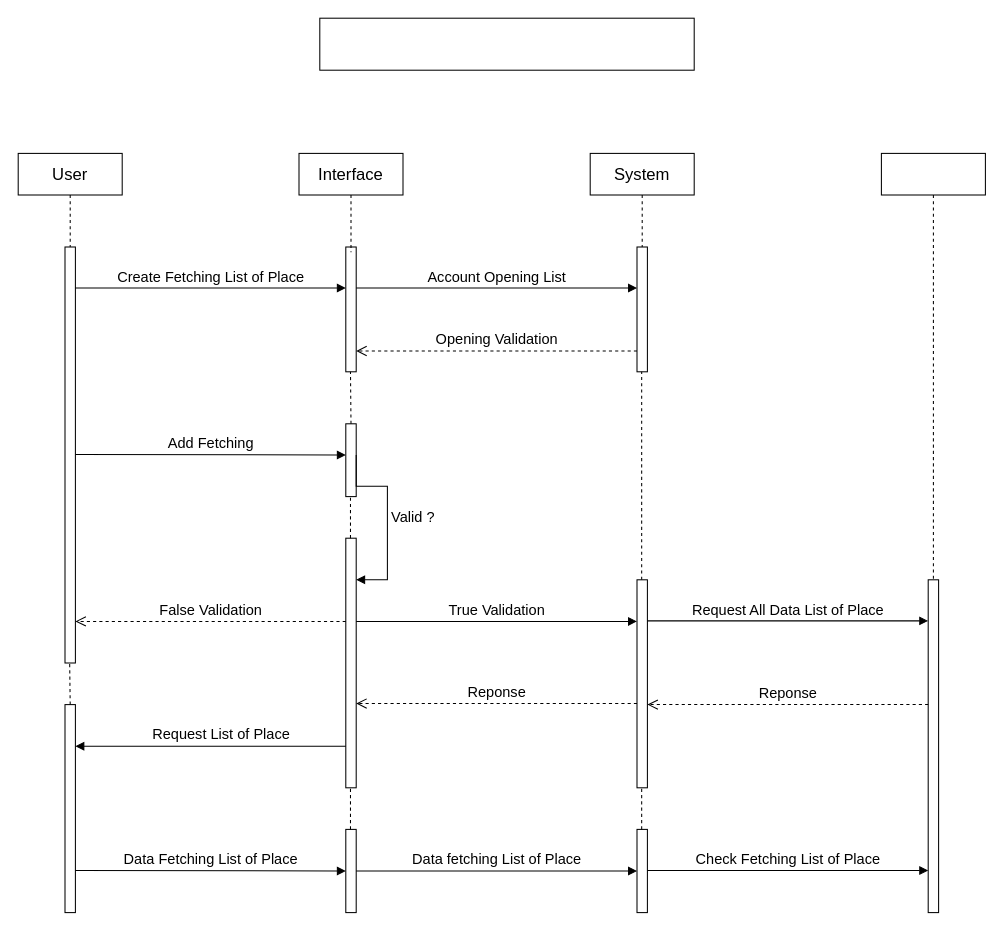
The diagram is 1004 pixels wide and 931 high, and some of its shapes have lost their labels. Here are the shapes that lost their labels. From the top down, the box of each, then its label:
(319, 17, 694, 70): Fetching a List of Place
(880, 152, 985, 580): Data Base
